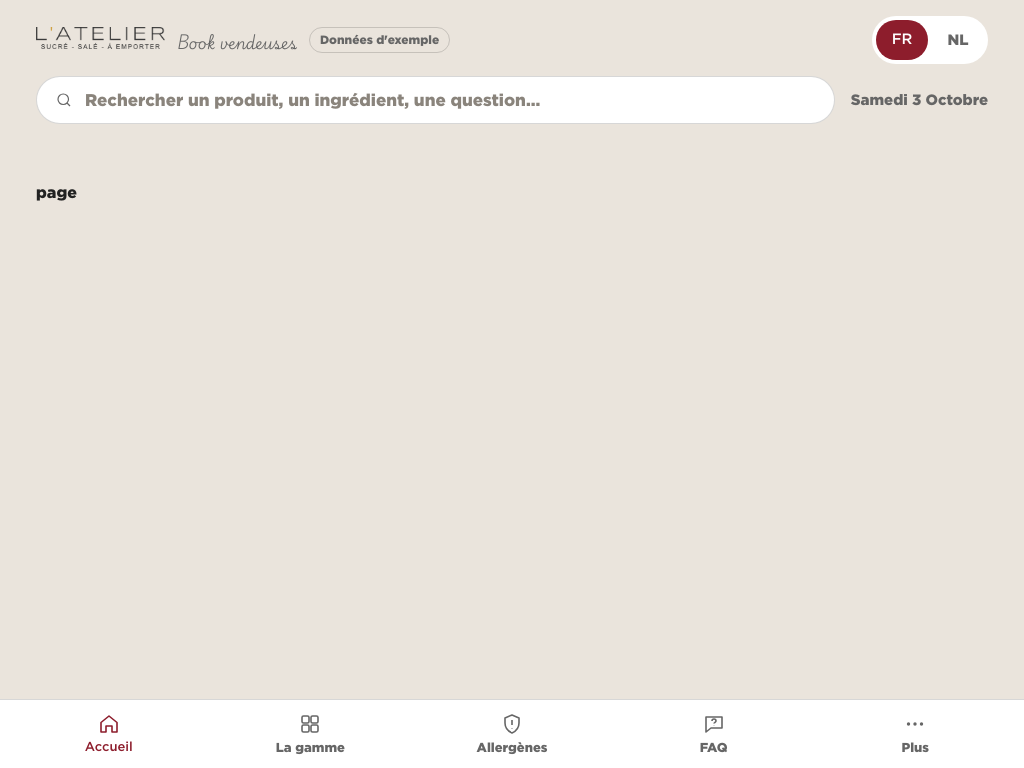
Test: AppShell — landscape (≥ 1000 px) › opens the "Plus" sheet too (Vente / Formation); "Les bases" opens its section
This screenshot has width=1024, height=768.
What coordinates should you click on to do the following:
click the button "Plus"
I would click on:
 (915, 734)
Its box is [814,706,1016,762].
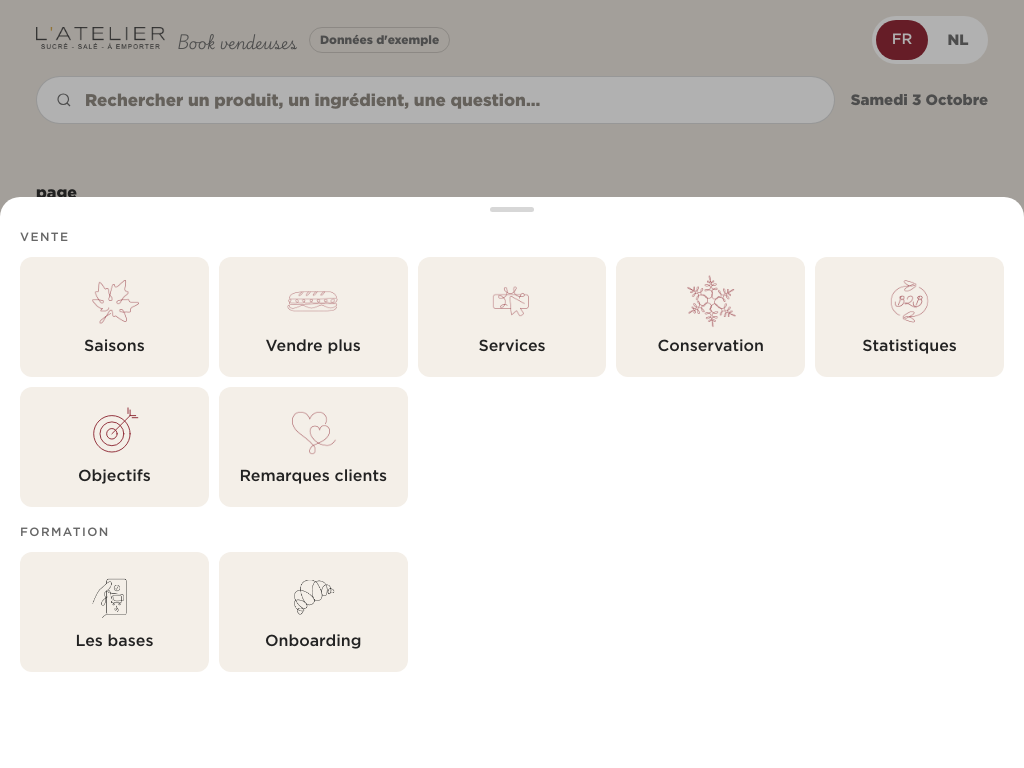
Result: the text "Vente" is shown at [20,231,70,243]
Result: the text "Formation" is shown at [20,526,110,538]
What coordinates should you click on to do the following:
click the button "Les bases"
I would click on:
 (114, 612)
Its box is [20,552,209,672].
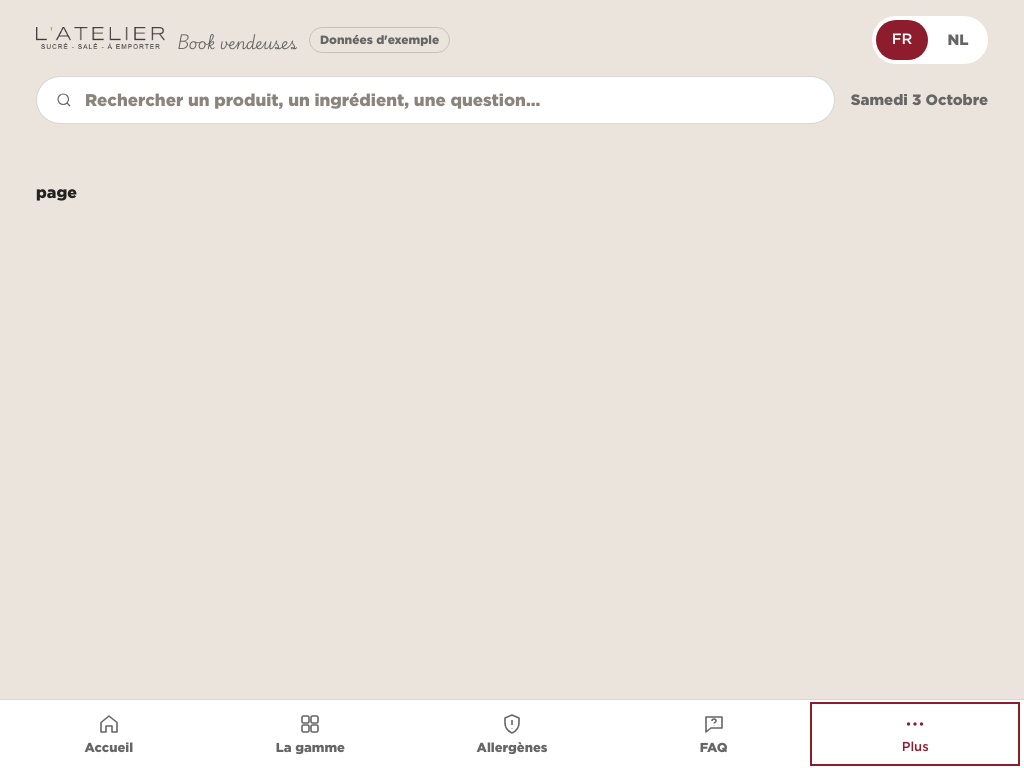
Result: the dialog is gone
